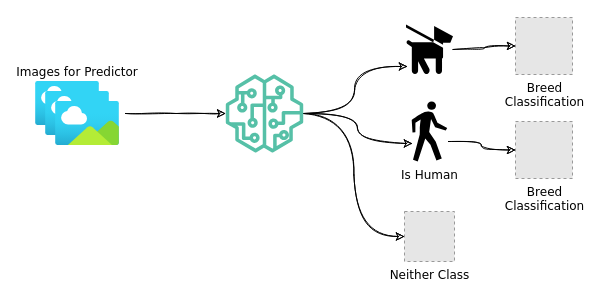
Image size: 601x300. Some labels were removed from this diagram. Grey dashed boxes stand in for pictures. Here are the shapes that lost their labels. From the top down, the centre of each, then its label:
point (429, 49): Is Dog
point (264, 113): Predictor Xfer Learn Model
